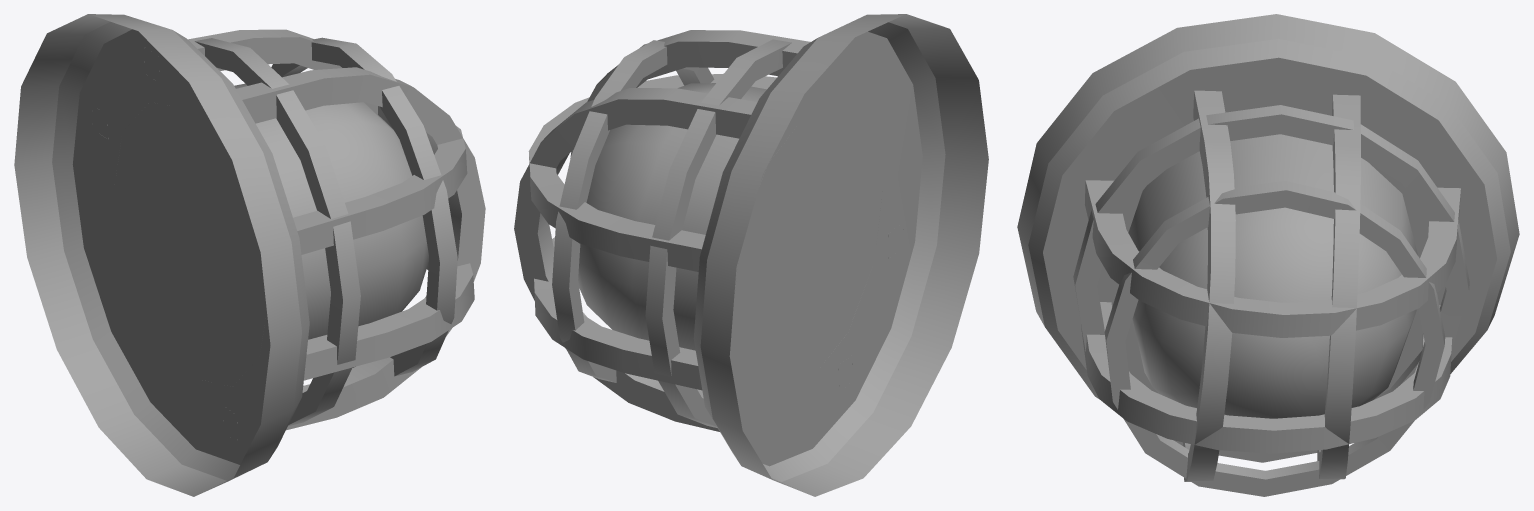
The model's file is SM_allarme.fbx.
3 renders of one model, left to right at view 1: azimuth 30°, elevation 25°; view 2: azimuth 150°, elevation 25°; view 3: azimuth 270°, elevation 25°, orthographic. The views are drawn at different scales.
Parts seen in each view (by area): view 1: SM_allarme; view 2: SM_allarme; view 3: SM_allarme.
Part boxes in pixels (left/top/right/bottom): SM_allarme: left=14, top=14, right=485, bottom=496; SM_allarme: left=514, top=14, right=988, bottom=496; SM_allarme: left=1017, top=14, right=1519, bottom=496.
Bounding box in the file's own units: 0.1637 × 0.2232 × 0.2345.
Materials: 1 (1 with a texture image).
